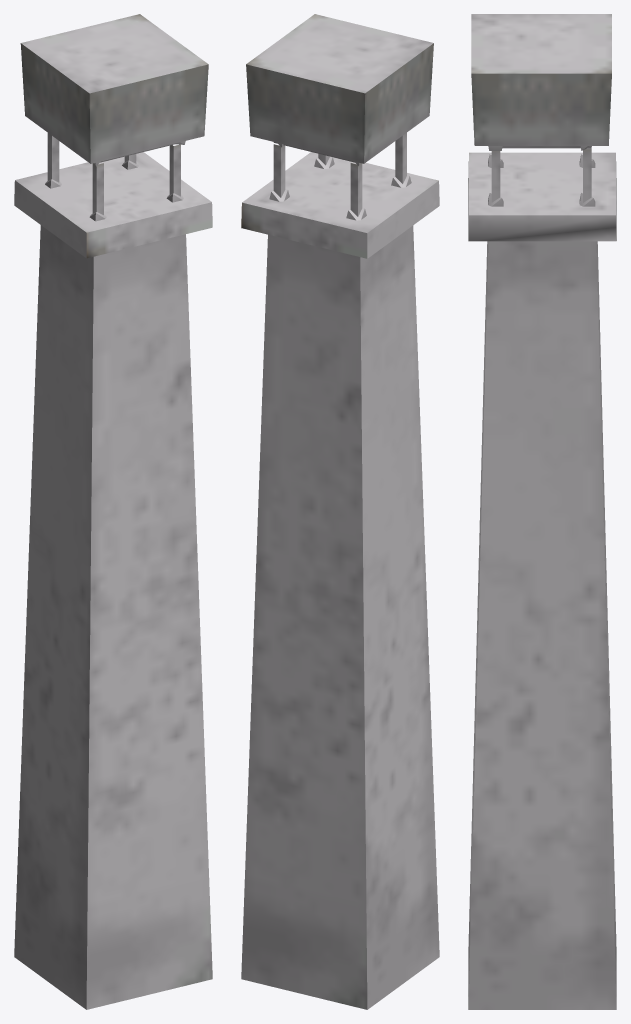
File: general_obj_stonepillar_02_lod_01.glb
The picture shows the model from 3 angles, left to right: view 1: azimuth 30°, elevation 25°; view 2: azimuth 150°, elevation 25°; view 3: azimuth 270°, elevation 25°; orthographic projection. The views are drawn at different scales.
Parts seen in each view (by area): view 1: Object08; view 2: Object08; view 3: Object08.
Boxes of the visible parts, x1,y1,x2,y2 form: Object08: [14, 14, 212, 1009]; Object08: [241, 14, 439, 1009]; Object08: [468, 14, 616, 1009].
Size of the model in its own units: 0.8048 by 5.57 by 0.7989.
1 material, 1 textured.
